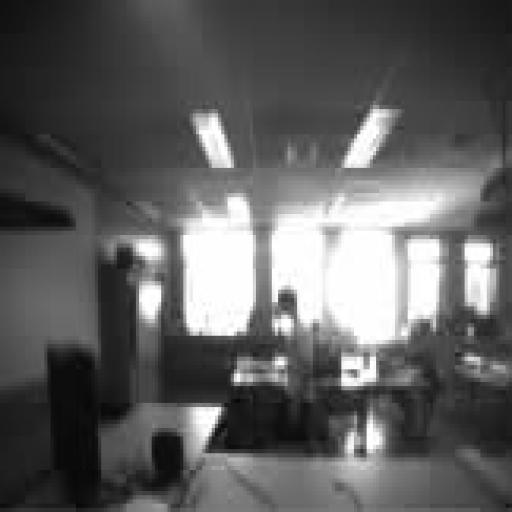human: (390, 319, 442, 439), (279, 290, 319, 440)
